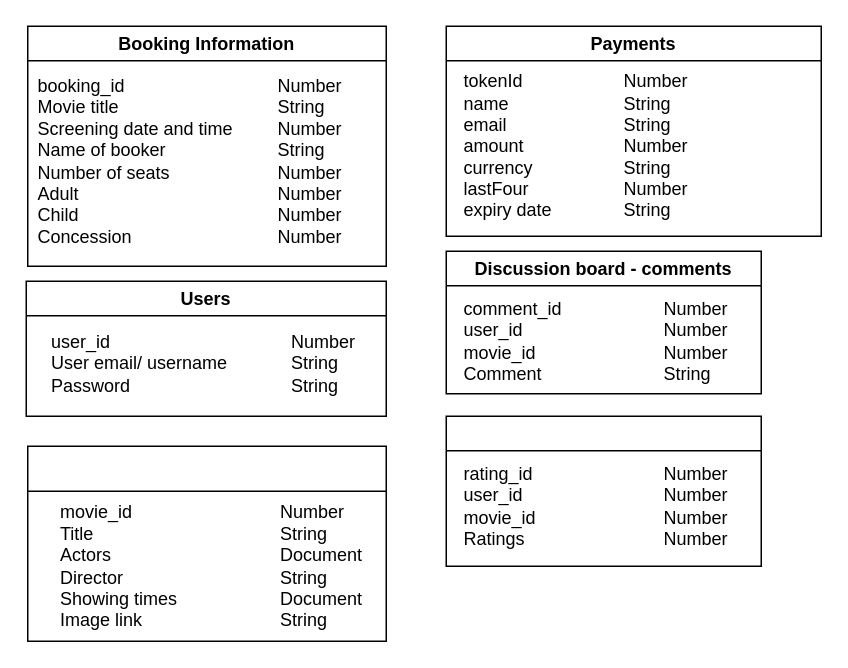
This 848x668 diagram has some shape labels left out. The box of each missing label's shape, as (x1, y1, x2, y2) in pixels:
Discussion board - ratings: (445, 415, 761, 566)
Movies: (26, 445, 386, 641)
